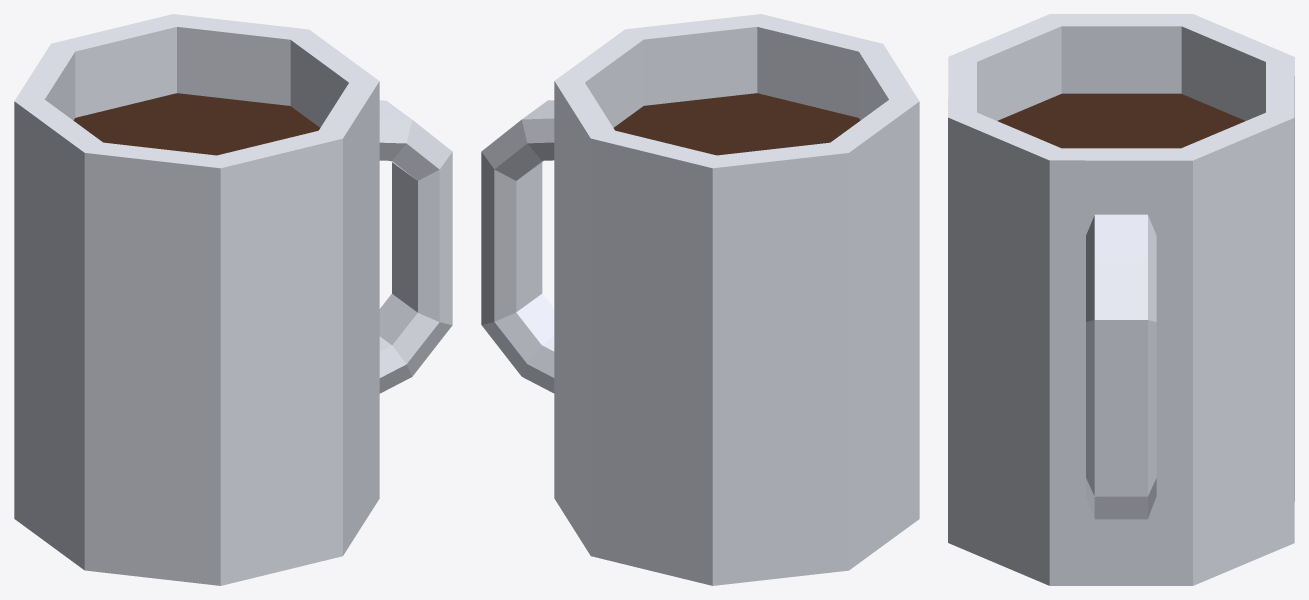
Rendered from Coffee cup.fbx.
3 views of the same model, side by side, from view 1: azimuth 30°, elevation 25°; view 2: azimuth 150°, elevation 25°; view 3: azimuth 270°, elevation 25° (orthographic).
Visible parts, largest first — view 1: Coffee Cup; view 2: Coffee Cup; view 3: Coffee Cup.
Part boxes in pixels (x1=…): Coffee Cup: x1=14, y1=14, x2=452, y2=585; Coffee Cup: x1=481, y1=14, x2=919, y2=585; Coffee Cup: x1=948, y1=14, x2=1294, y2=585.
Size of the model in its own units: 10.29 by 10.53 by 7.78.
